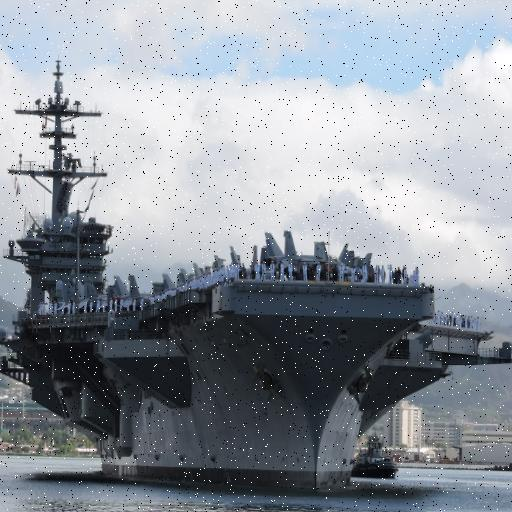Portanaves: (1, 52, 512, 512)
